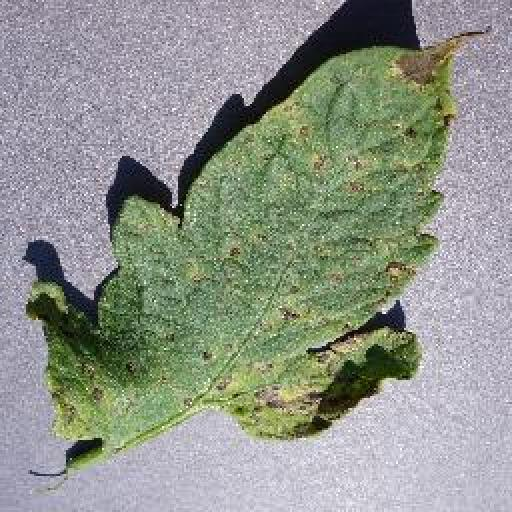Septoria: (28, 44, 458, 440)
